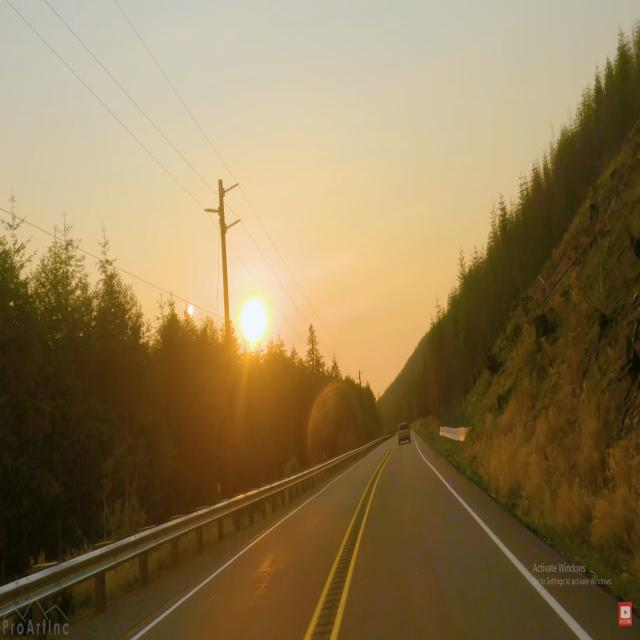sun: (229, 284, 278, 361)
